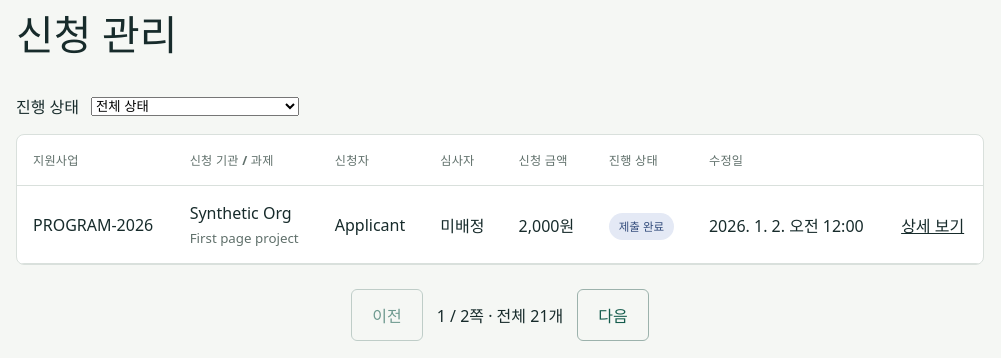
it: admin product surface › moves admin application pagination forward and back through API pages
Expected: the text "First page project" is shown, [190, 229, 303, 247]
Expected: the button "이전" is disabled, [351, 289, 423, 341]
Click the button "다음": (613, 315) [577, 289, 649, 341]
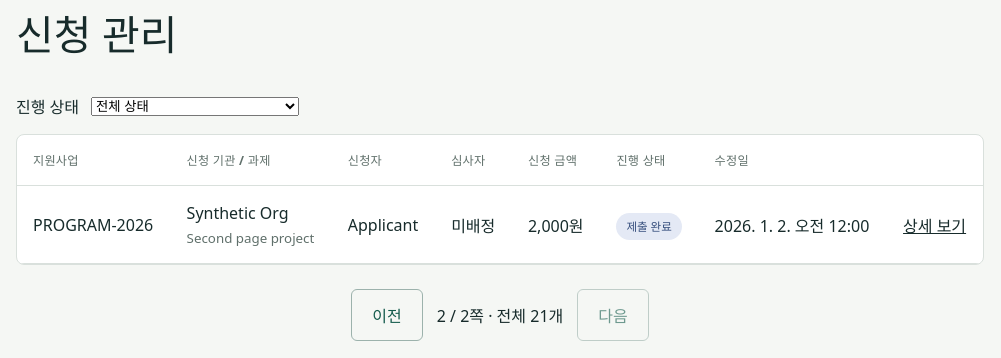
Expected: the text "Second page project" is shown, [187, 229, 316, 247]
Expected: the button "이전" is enabled
Expected: the button "다음" is disabled, [577, 289, 649, 341]
Click the button "이전": (387, 315) [351, 289, 423, 341]
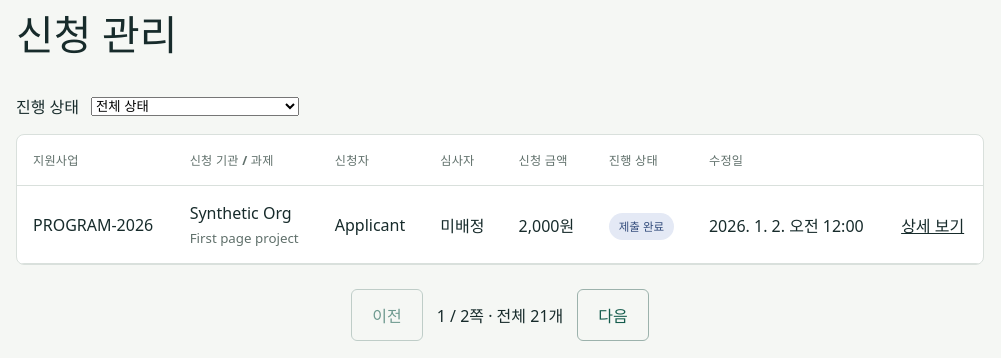
Expected: the text "First page project" is shown, [190, 229, 303, 247]
